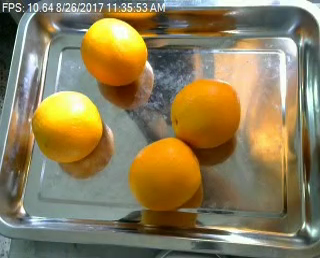Orange: (129, 137, 201, 211), (32, 91, 102, 163), (170, 79, 241, 148), (81, 16, 149, 85)
